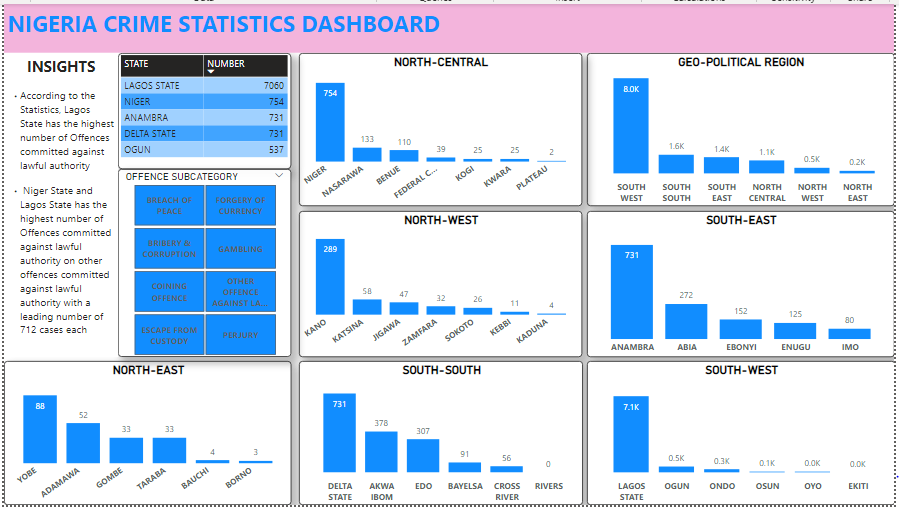

Layout of this report page (visuals, bound fields, positions):
{"tool":"powerbi","page":{"name":"Page 1","canvas":[1280,720],"ordinal":0},"visuals":[{"type":"columnChart","title":"GEO-POLITICAL REGION","fields":{"Category":["State_Dim_Table.REGION"],"Y":["Sum(Offence_Table.NUMBER)"]},"box":[838.3,70,441.7,220],"z":0},{"type":"columnChart","title":"NORTH-CENTRAL","fields":{"Category":["State_Dim_Table.STATE"],"Y":["Sum(Offence_Table.NUMBER)"]},"box":[423.3,70,406.7,220],"z":1000},{"type":"columnChart","title":"NORTH-EAST","fields":{"Category":["State_Dim_Table.STATE"],"Y":["Sum(Offence_Table.NUMBER)"]},"box":[0,513.3,413.3,206.7],"z":2000},{"type":"columnChart","title":"NORTH-WEST","fields":{"Category":["State_Dim_Table.STATE"],"Y":["Sum(Offence_Table.NUMBER)"]},"box":[424,297.5,406.7,209.8],"z":3000},{"type":"columnChart","title":"SOUTH-EAST","fields":{"Category":["State_Dim_Table.STATE"],"Y":["Sum(Offence_Table.NUMBER)"]},"box":[837.8,298.9,442.6,208.4],"z":4000},{"type":"columnChart","title":"SOUTH-SOUTH","fields":{"Category":["State_Dim_Table.STATE"],"Y":["Sum(Offence_Table.NUMBER)"]},"box":[424,513.1,406.7,204.1],"z":5000},{"type":"columnChart","title":"SOUTH-WEST","fields":{"Category":["State_Dim_Table.STATE"],"Y":["Sum(Offence_Table.NUMBER)"]},"box":[837.8,513.1,442.6,206.9],"z":6000},{"type":"tableEx","title":"TOP 5 STATES BY CRIME","fields":{"Values":["Offence_Table.STATE","Sum(Offence_Table.NUMBER)"]},"box":[164.3,70,248.6,167.1],"z":7000},{"type":"slicer","fields":{"Values":["Offence_Table.OFFENCE SUBCATEGORY"]},"box":[164.3,237.1,248.6,270],"z":8000},{"type":"textbox","box":[0,0,1280,70],"z":9000},{"type":"textbox","box":[0,70,164.3,437.1],"z":9001}]}

Visuals, with their boxes in screenshot pixels (x1, y1, x2, y2), scaled from the page's 1280x720 canvas onto the 899x509 screenshot:
"GEO-POLITICAL REGION" columnChart: x1=589, y1=49, x2=898, y2=205
"NORTH-CENTRAL" columnChart: x1=297, y1=49, x2=583, y2=205
"NORTH-EAST" columnChart: x1=0, y1=363, x2=290, y2=508
"NORTH-WEST" columnChart: x1=298, y1=210, x2=583, y2=359
"SOUTH-EAST" columnChart: x1=588, y1=211, x2=898, y2=359
"SOUTH-SOUTH" columnChart: x1=298, y1=363, x2=583, y2=507
"SOUTH-WEST" columnChart: x1=588, y1=363, x2=898, y2=508
"TOP 5 STATES BY CRIME" tableEx: x1=115, y1=49, x2=290, y2=168
slicer - Offence_Table.OFFENCE SUBCATEGORY: x1=115, y1=168, x2=290, y2=358
textbox: x1=0, y1=0, x2=898, y2=49
textbox: x1=0, y1=49, x2=115, y2=358
